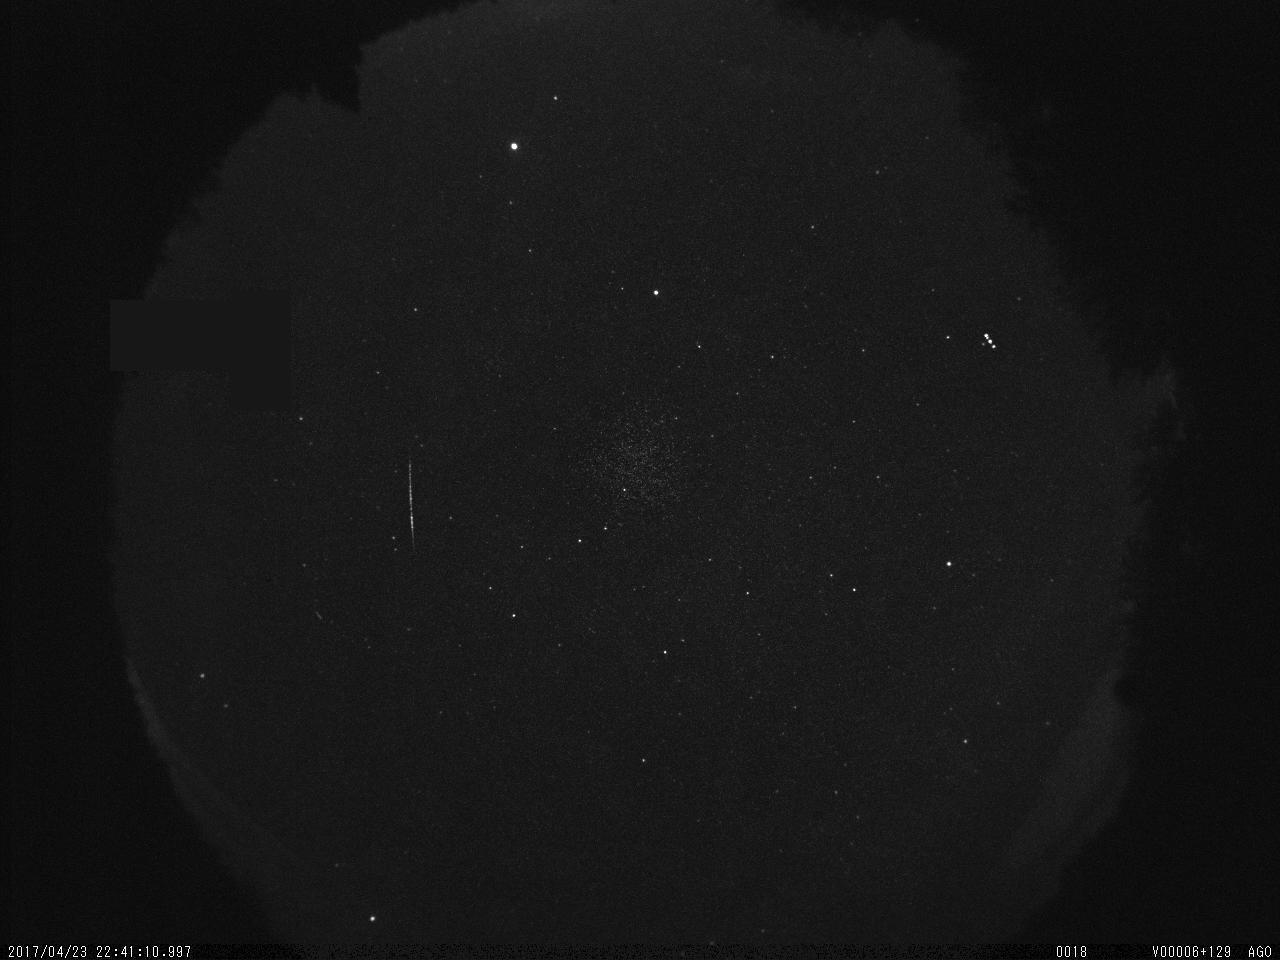Meteor: (400, 453, 415, 545)
